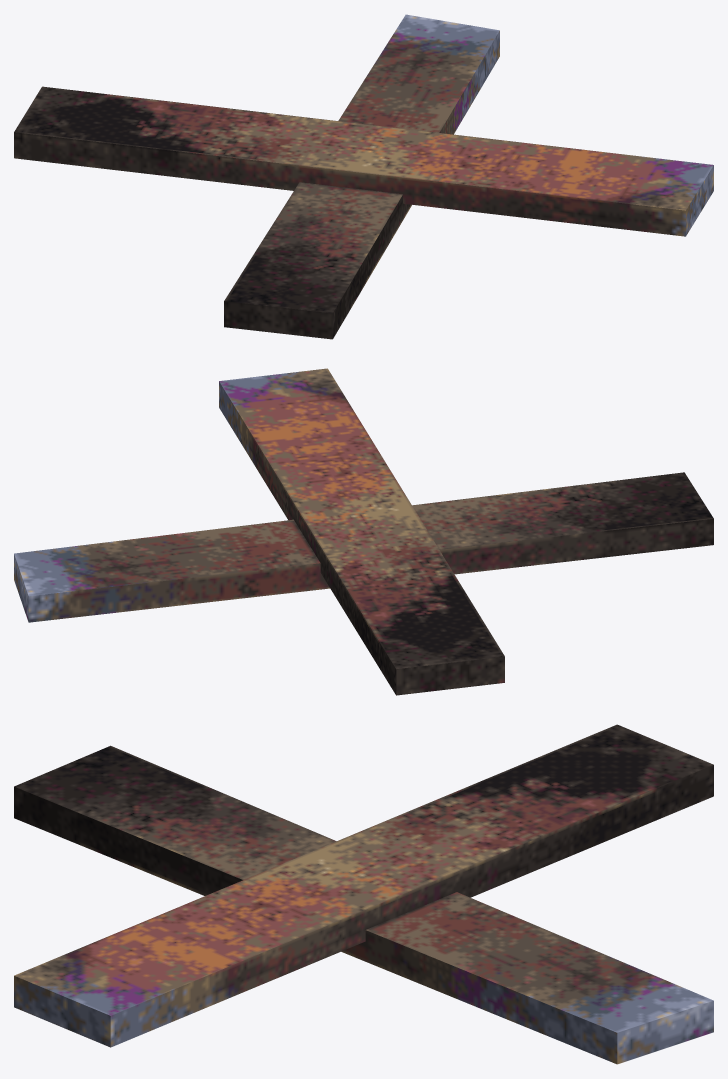
The model's file is CrateBreak3.fbx.
The picture shows the model from 3 angles, top to bottom: view 1: azimuth 30°, elevation 25°; view 2: azimuth 150°, elevation 25°; view 3: azimuth 270°, elevation 25°; orthographic projection. The views are drawn at different scales.
Parts seen in each view (by area): view 1: Cube.008; view 2: Cube.008; view 3: Cube.008.
Part boxes in pixels (x1,y1,x2,y2): Cube.008: [14, 14, 713, 339]; Cube.008: [14, 368, 713, 695]; Cube.008: [14, 724, 713, 1064].
Size of the model in its own units: 392 by 32.58 by 398.
